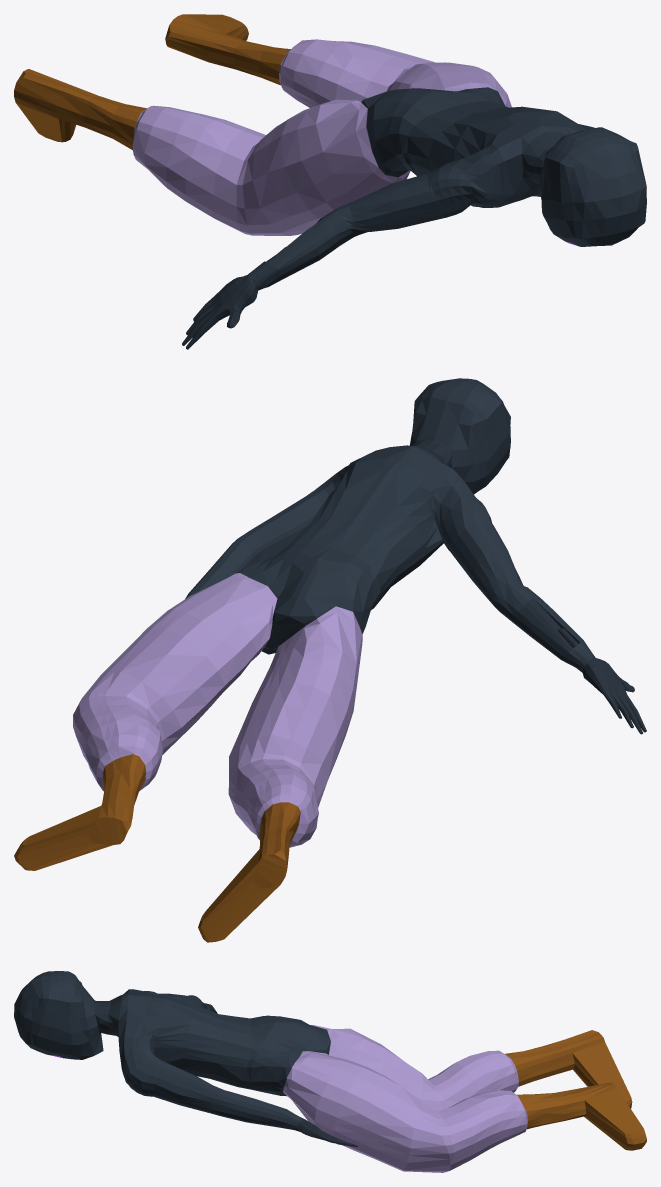
Rendered from Oracle_Die_000011.obj.
The picture shows the model from 3 angles, top to bottom: view 1: azimuth 30°, elevation 25°; view 2: azimuth 150°, elevation 25°; view 3: azimuth 270°, elevation 25°; orthographic projection. The views are drawn at different scales.
Parts seen in each view (by area): view 1: Cube; view 2: Cube; view 3: Cube.
Part boxes in pixels (<box>): Cube: <box>14,14,646,349</box>; Cube: <box>14,378,646,942</box>; Cube: <box>14,971,646,1172</box>.
Size of the model in its own units: 2.16 by 1.27 by 3.82.
